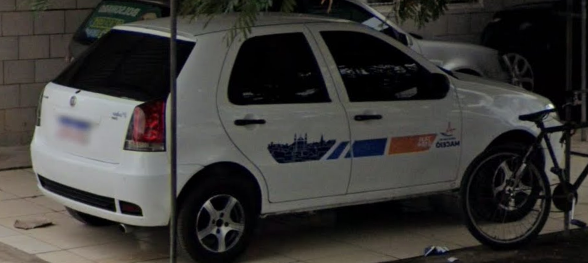car: (33, 13, 567, 263)
